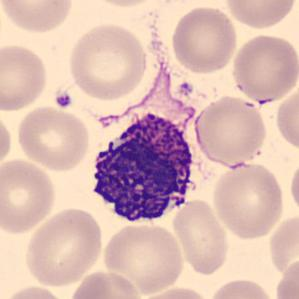Basophil: (82, 106, 212, 230)
Platelets: (53, 92, 74, 110)
RBC: (22, 205, 106, 288), (66, 21, 150, 102), (100, 221, 186, 295), (210, 160, 287, 240), (192, 93, 269, 166), (14, 104, 92, 172), (229, 31, 298, 105), (170, 4, 240, 75), (170, 196, 231, 276), (0, 156, 59, 236), (0, 41, 50, 113), (0, 0, 76, 35), (68, 268, 146, 299), (222, 0, 298, 30), (266, 212, 299, 279), (274, 81, 299, 154), (206, 275, 277, 299), (272, 255, 299, 299), (1, 283, 71, 299), (135, 285, 214, 299), (0, 110, 14, 170), (287, 158, 299, 218), (83, 0, 164, 8)
